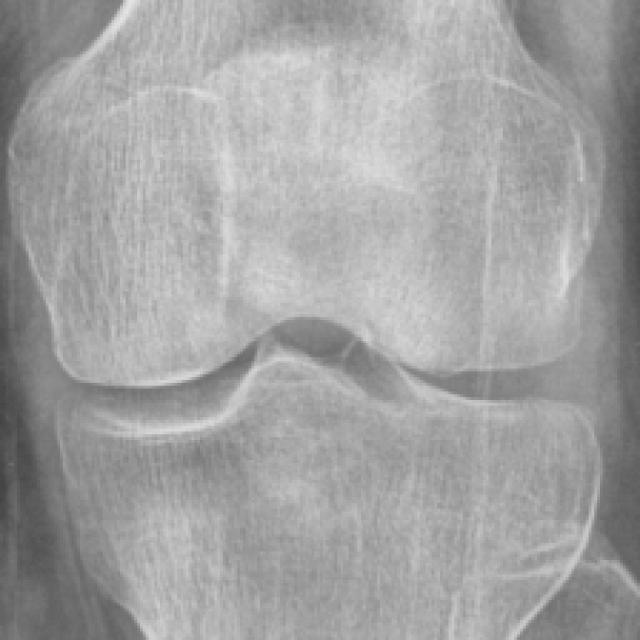femur: (7, 0, 603, 388)
tibia: (57, 356, 601, 640)
